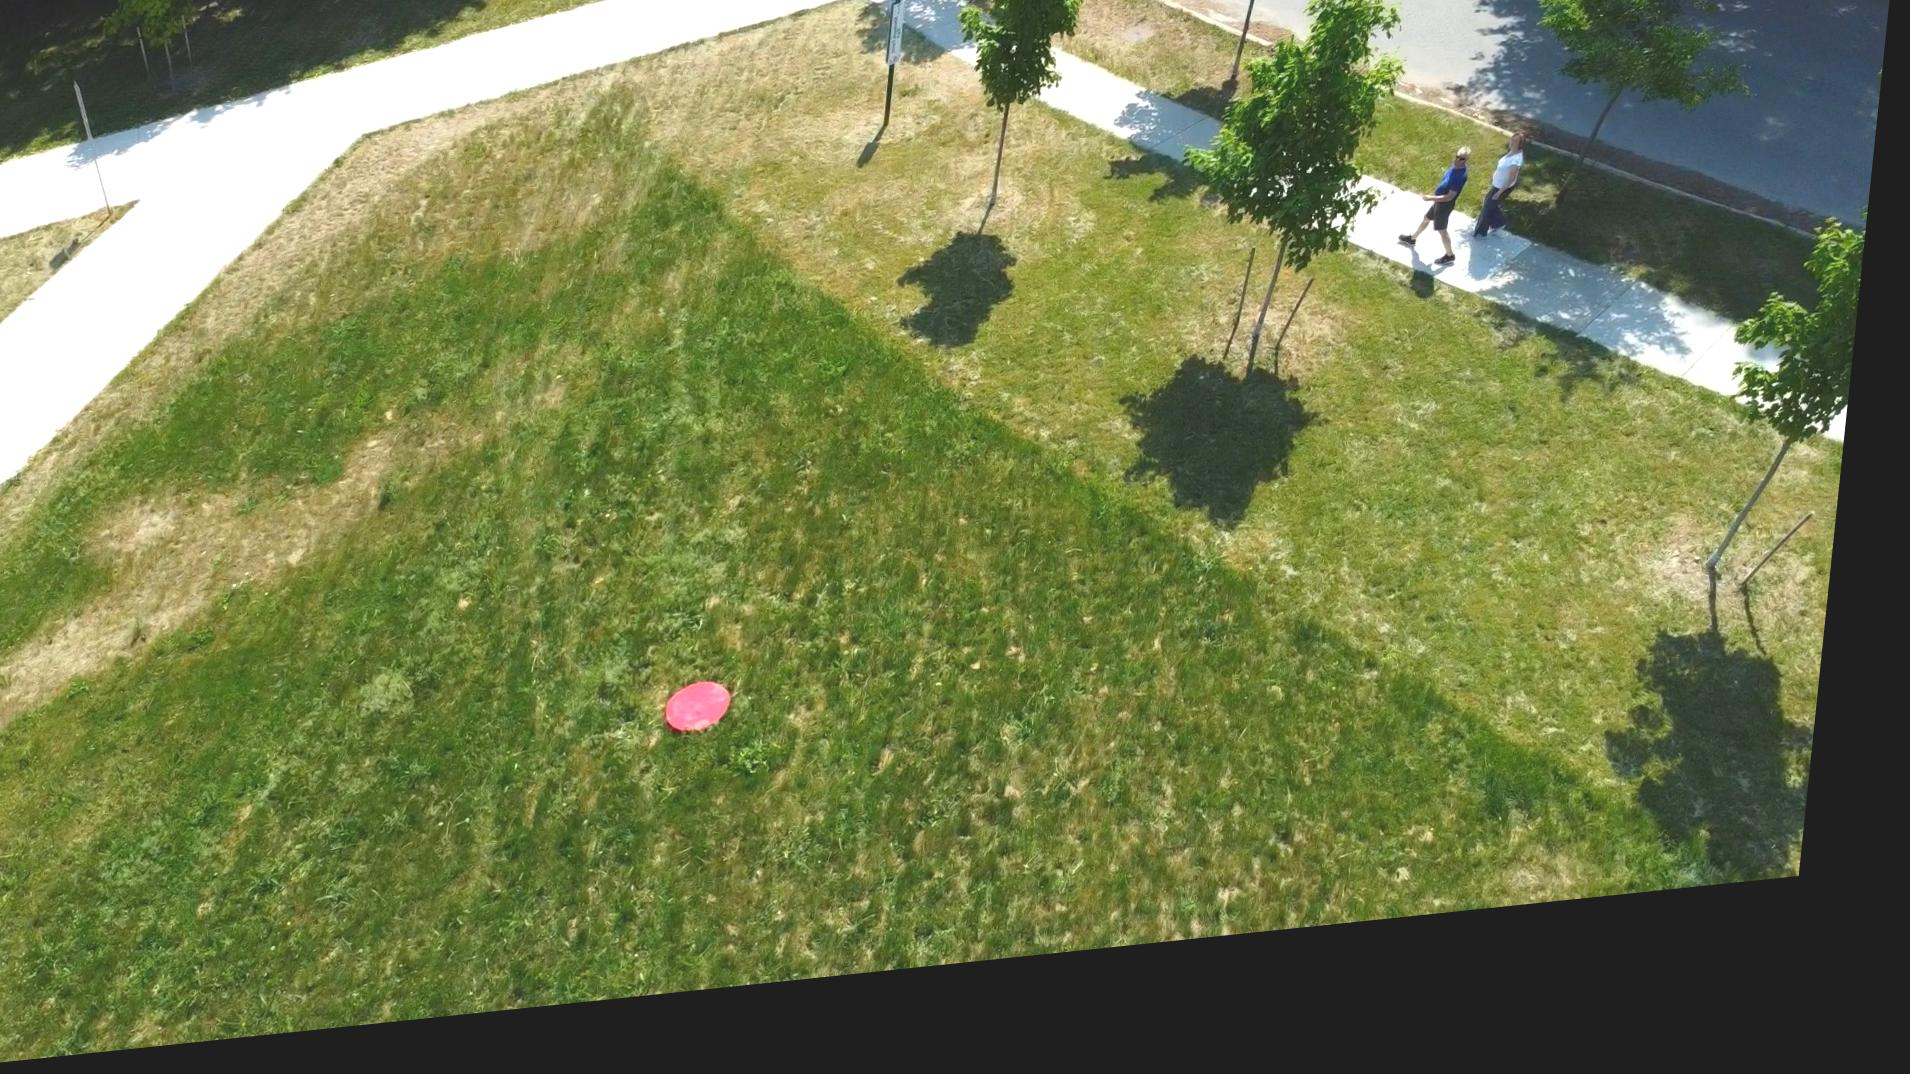Red: (678, 694, 750, 754)
